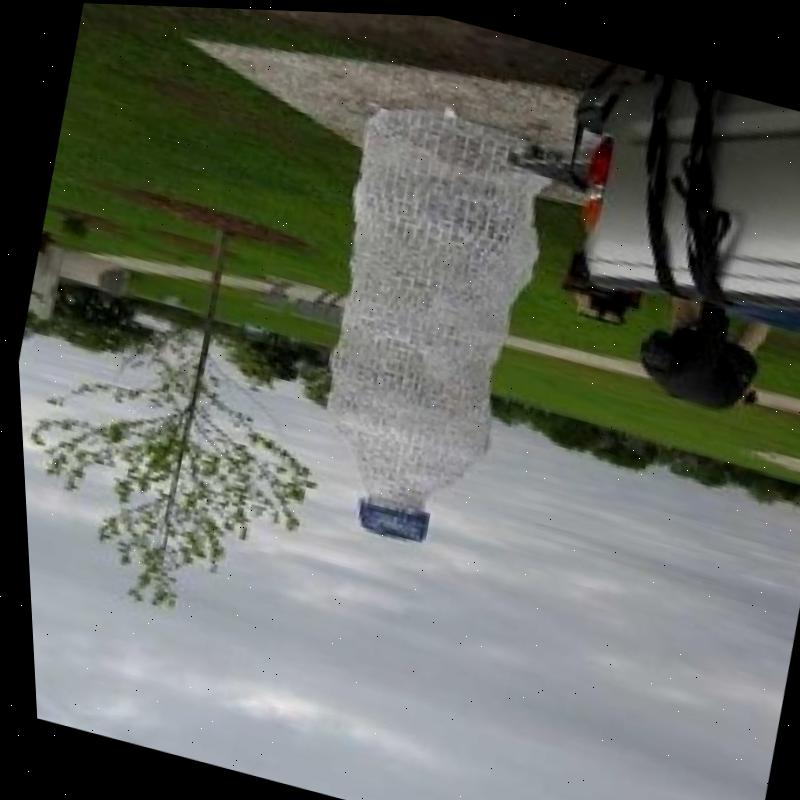botella: (268, 80, 586, 565)
